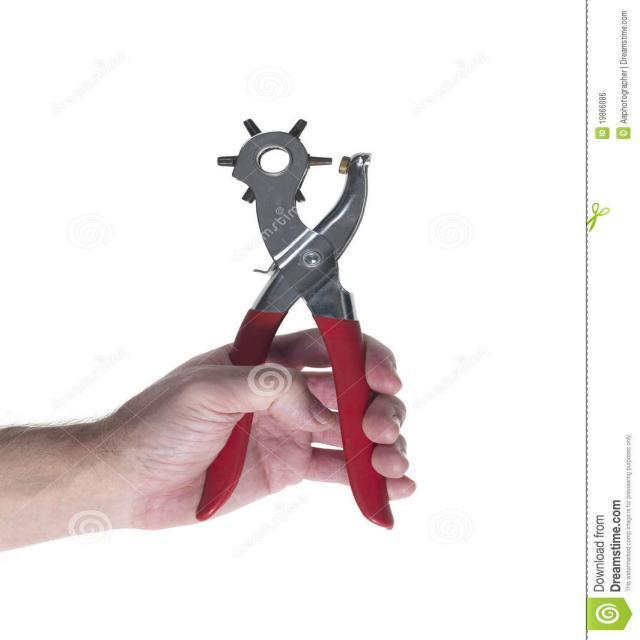pliers: (194, 113, 400, 536)
